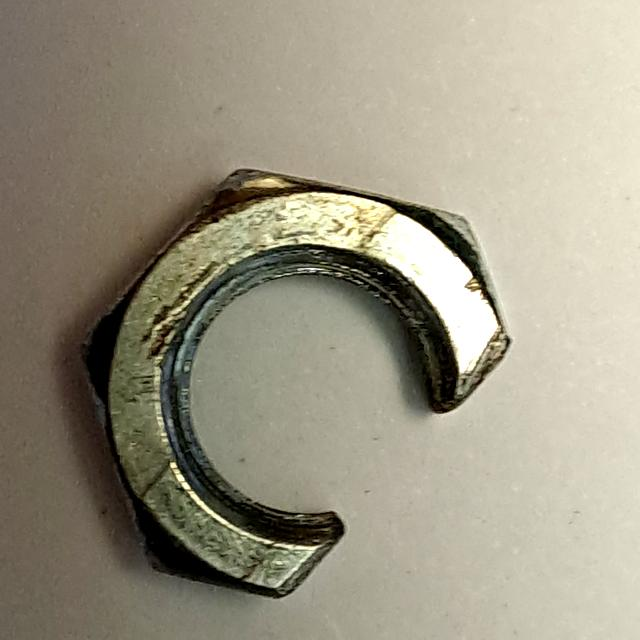Fracture: (64, 154, 533, 617)
